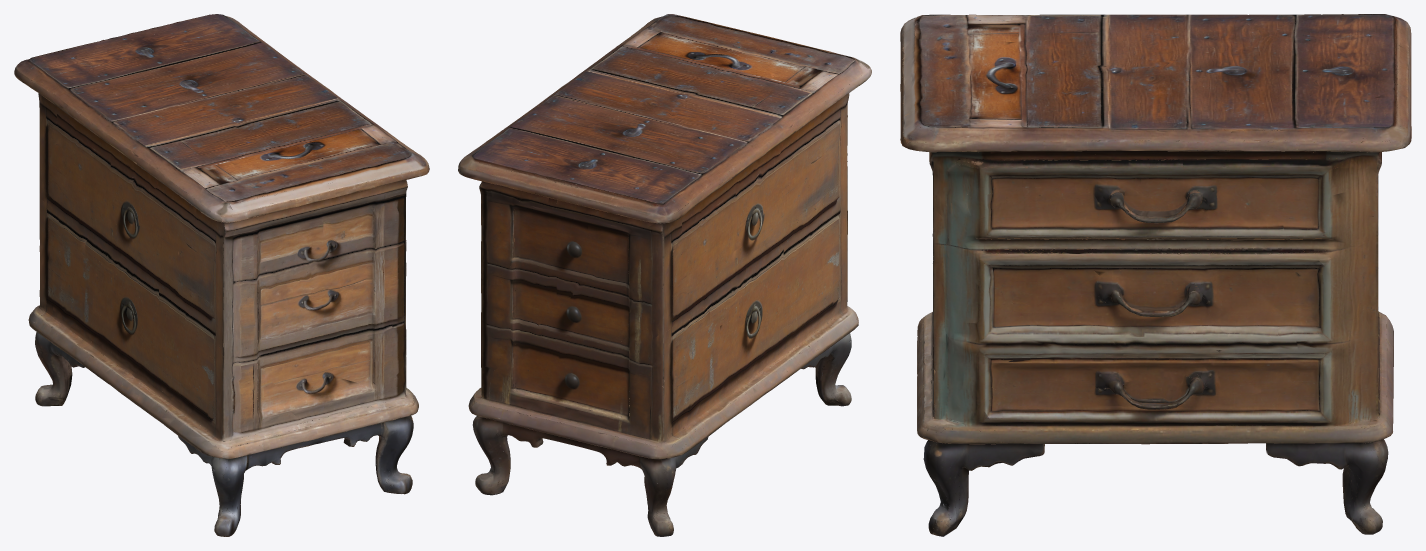
Rendered from nachttisch.glb.
3 views of the same model, side by side, from view 1: azimuth 30°, elevation 25°; view 2: azimuth 150°, elevation 25°; view 3: azimuth 270°, elevation 25° (orthographic). The views are drawn at different scales.
Visible parts, largest first — view 1: Mesh_0; view 2: Mesh_0; view 3: Mesh_0.
Boxes of the visible parts, bbox=[...] form: Mesh_0: bbox=[14, 14, 429, 536]; Mesh_0: bbox=[458, 14, 871, 536]; Mesh_0: bbox=[900, 14, 1411, 536].
Bounding box in the file's own units: 1.2 × 1.77 × 2.
1 material, 1 textured.
